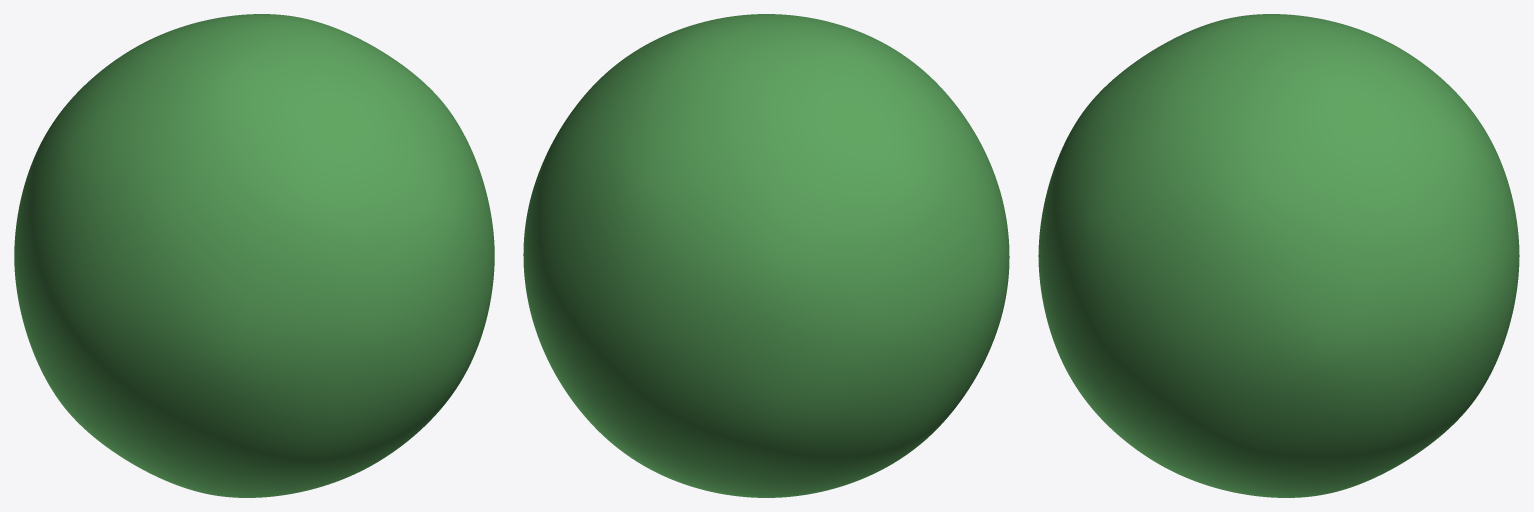
The picture shows the model from 3 angles, left to right: view 1: azimuth 30°, elevation 25°; view 2: azimuth 150°, elevation 25°; view 3: azimuth 270°, elevation 25°; orthographic projection.
Parts seen in each view (by area): view 1: pPlatonic1; view 2: pPlatonic1; view 3: pPlatonic1.
Boxes of the visible parts, x1,y1,x2,y2 form: pPlatonic1: (14,14,494,497); pPlatonic1: (523,14,1009,497); pPlatonic1: (1038,14,1519,497).
Bounding box in the file's own units: 16.83 × 16.76 × 16.7.
